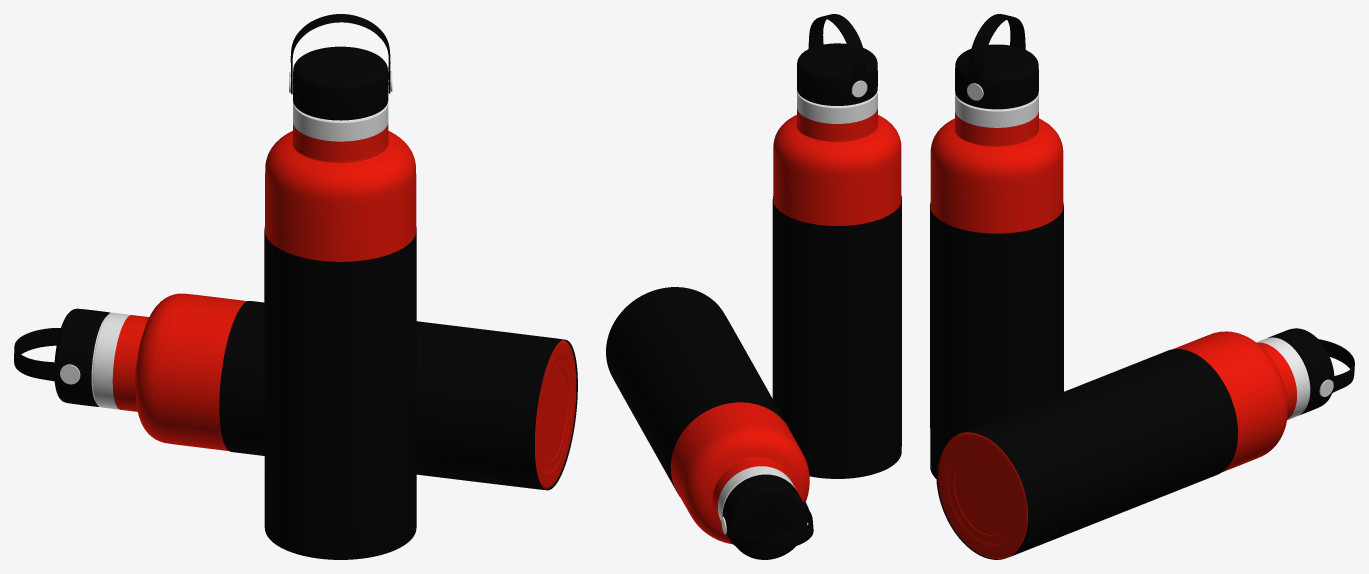
File: Steel A-2.glb
3 renders of one model, left to right at view 1: azimuth 30°, elevation 25°; view 2: azimuth 150°, elevation 25°; view 3: azimuth 270°, elevation 25°, orthographic. The views are drawn at different scales.
Parts seen in each view (by area): view 1: Circle.009, Circle, Circle.002, Circle.011; view 2: Circle.009, Circle, Circle.011, Circle.002; view 3: Circle.011, Circle.009, Circle, Circle.002.
Boxes of the visible parts, x1,y1,x2,y2 form: Circle.009: (264,227,416,559); Circle: (265,14,416,261); Circle.002: (14,293,576,489); Circle.011: (219,301,577,490); Circle.009: (772,195,901,478); Circle: (773,14,901,225); Circle.011: (606,287,792,496); Circle.002: (670,402,813,559); Circle.011: (936,349,1237,559); Circle.009: (930,202,1063,478); Circle: (930,14,1063,233); Circle.002: (938,328,1354,558).
Bounding box in the file's own units: 6.04 × 7.42 × 6.35.
4 materials, 1 textured.
